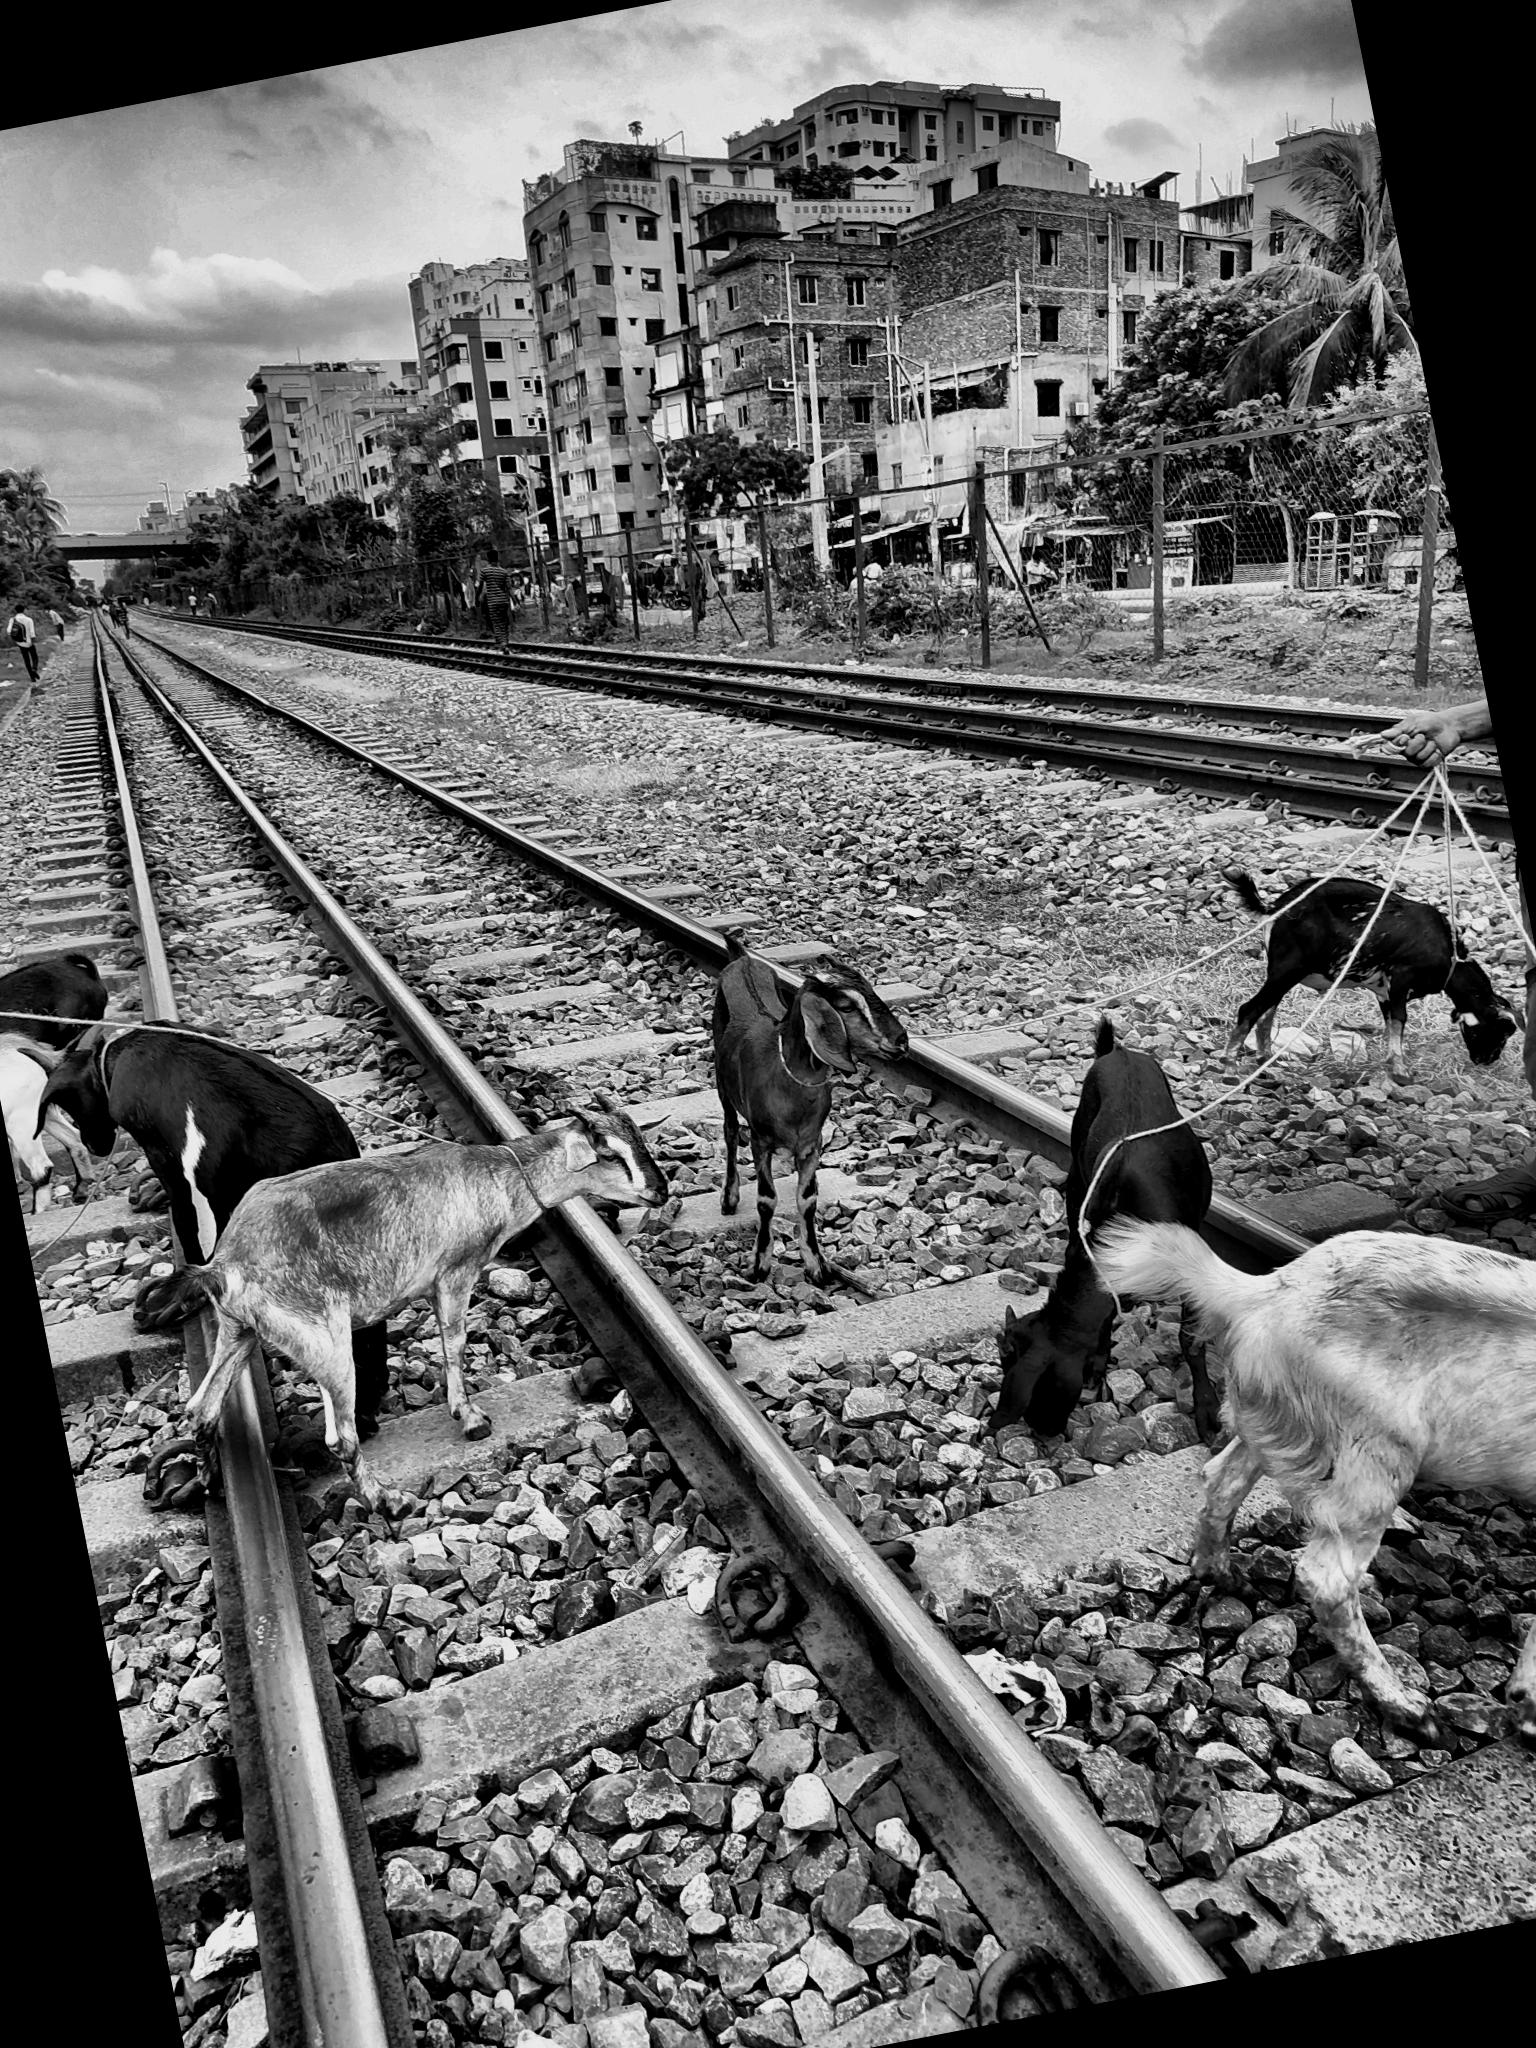Animal: (106, 1085, 712, 1484), (1176, 1156, 1536, 1792), (931, 1005, 1257, 1445), (679, 914, 947, 1309), (1202, 819, 1518, 1127), (47, 985, 371, 1240), (0, 937, 123, 1055), (0, 1018, 73, 1192)
Tree: (1031, 118, 1426, 456), (169, 398, 553, 593), (650, 387, 836, 524), (0, 448, 86, 653)
